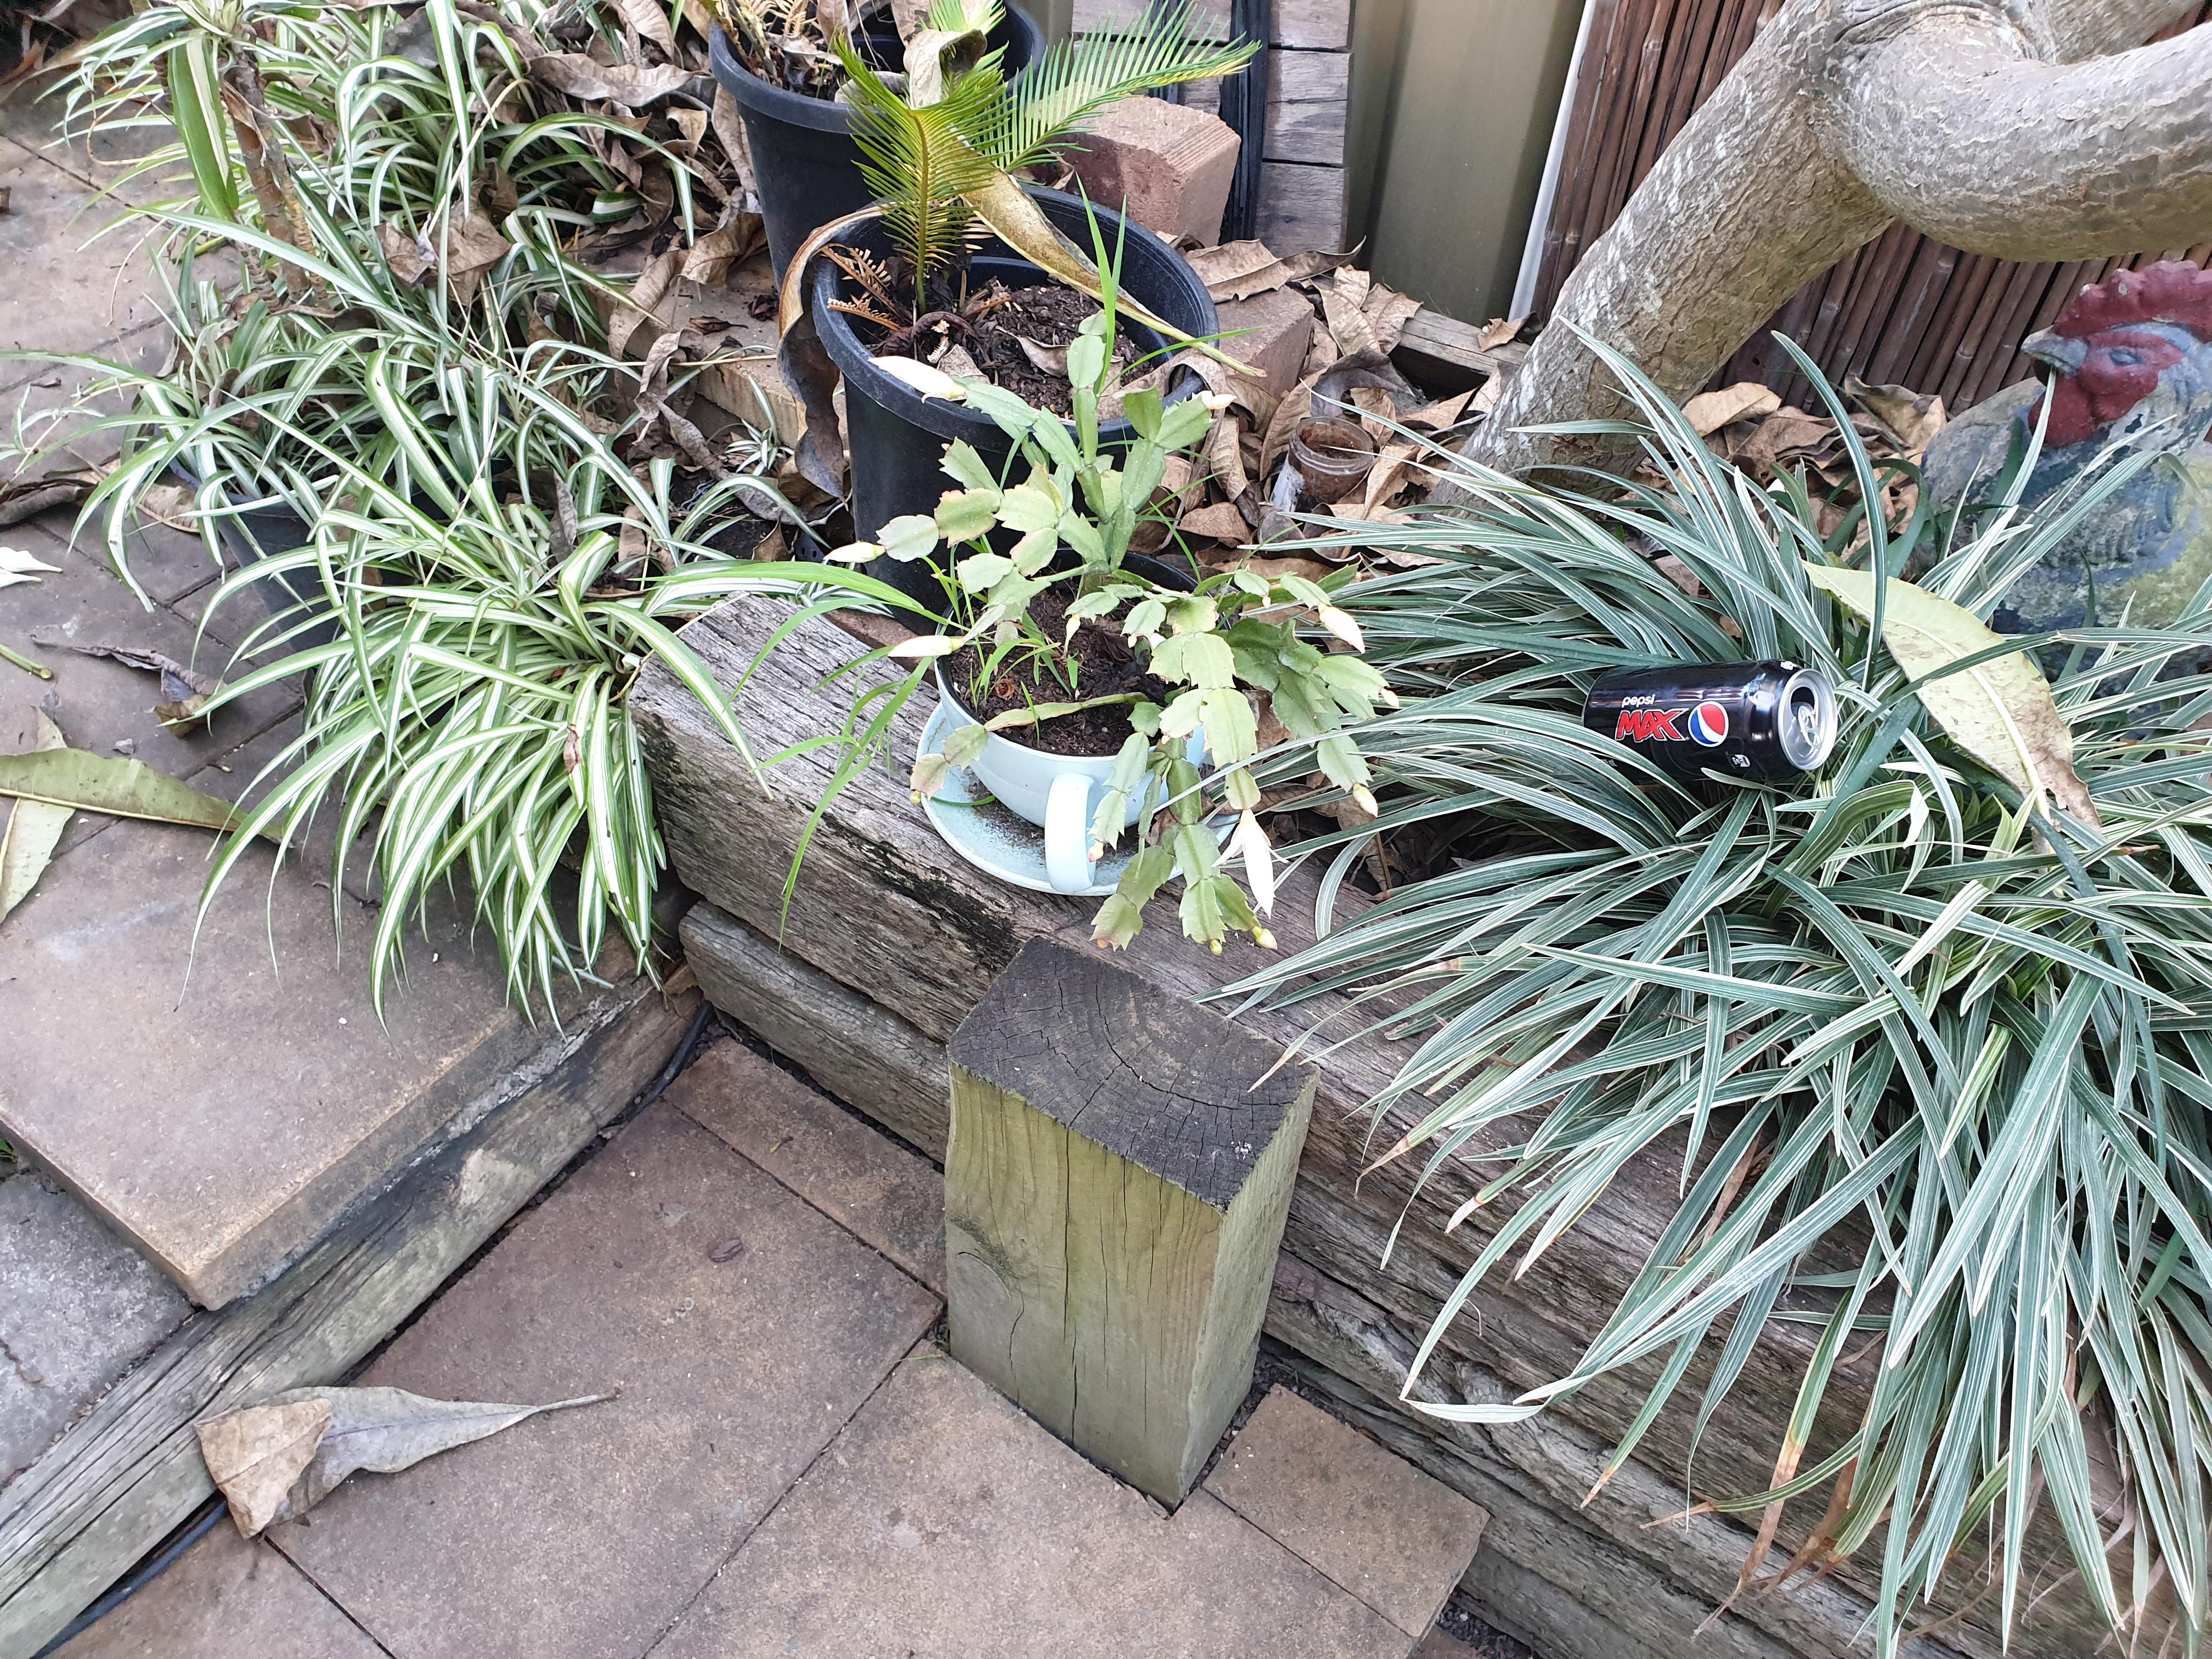Plastic Bottle: (1581, 659, 1838, 781)
